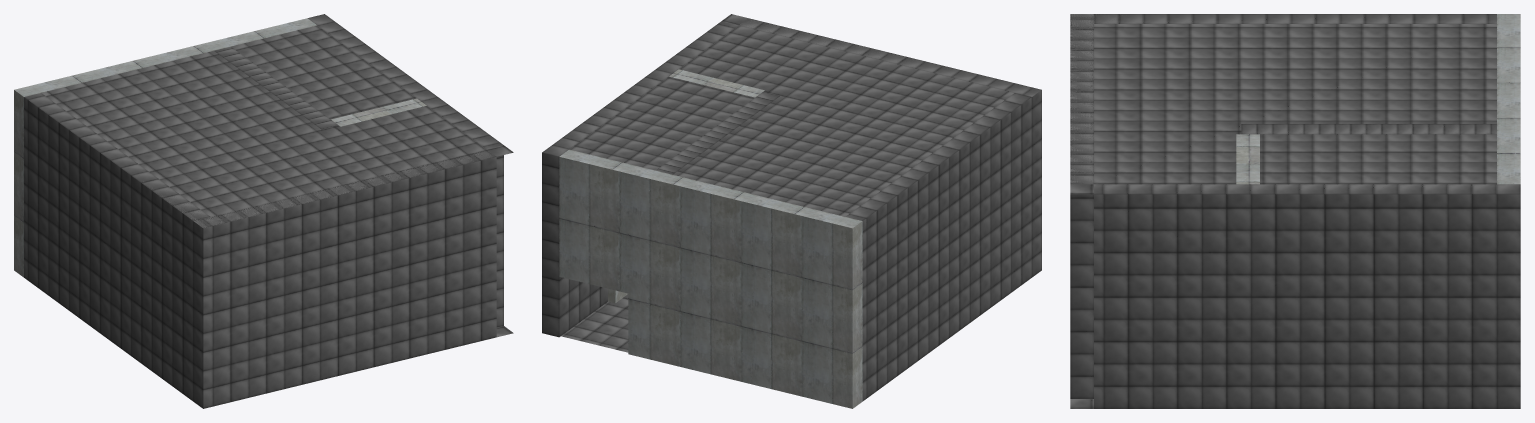
File: Level_33.fbx
3 views of the same model, side by side, from view 1: azimuth 30°, elevation 25°; view 2: azimuth 150°, elevation 25°; view 3: azimuth 270°, elevation 25° (orthographic). The views are drawn at different scales.
Parts seen in each view (by area): view 1: NoTeleport.022, Wall.023; view 2: NoTeleport.022, Wall.023; view 3: NoTeleport.022, Wall.023.
Boxes of the visible parts, <box> form: NoTeleport.022: <box>24,14,513,408</box>; Wall.023: <box>14,18,426,277</box>; NoTeleport.022: <box>542,14,1041,401</box>; Wall.023: <box>559,69,862,408</box>; NoTeleport.022: <box>1070,14,1520,408</box>; Wall.023: <box>1236,14,1520,184</box>.
Bounding box in the file's own units: 18 × 19 × 11.
